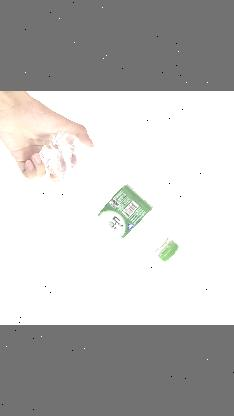Plastic Bottle: (34, 127, 180, 262)
